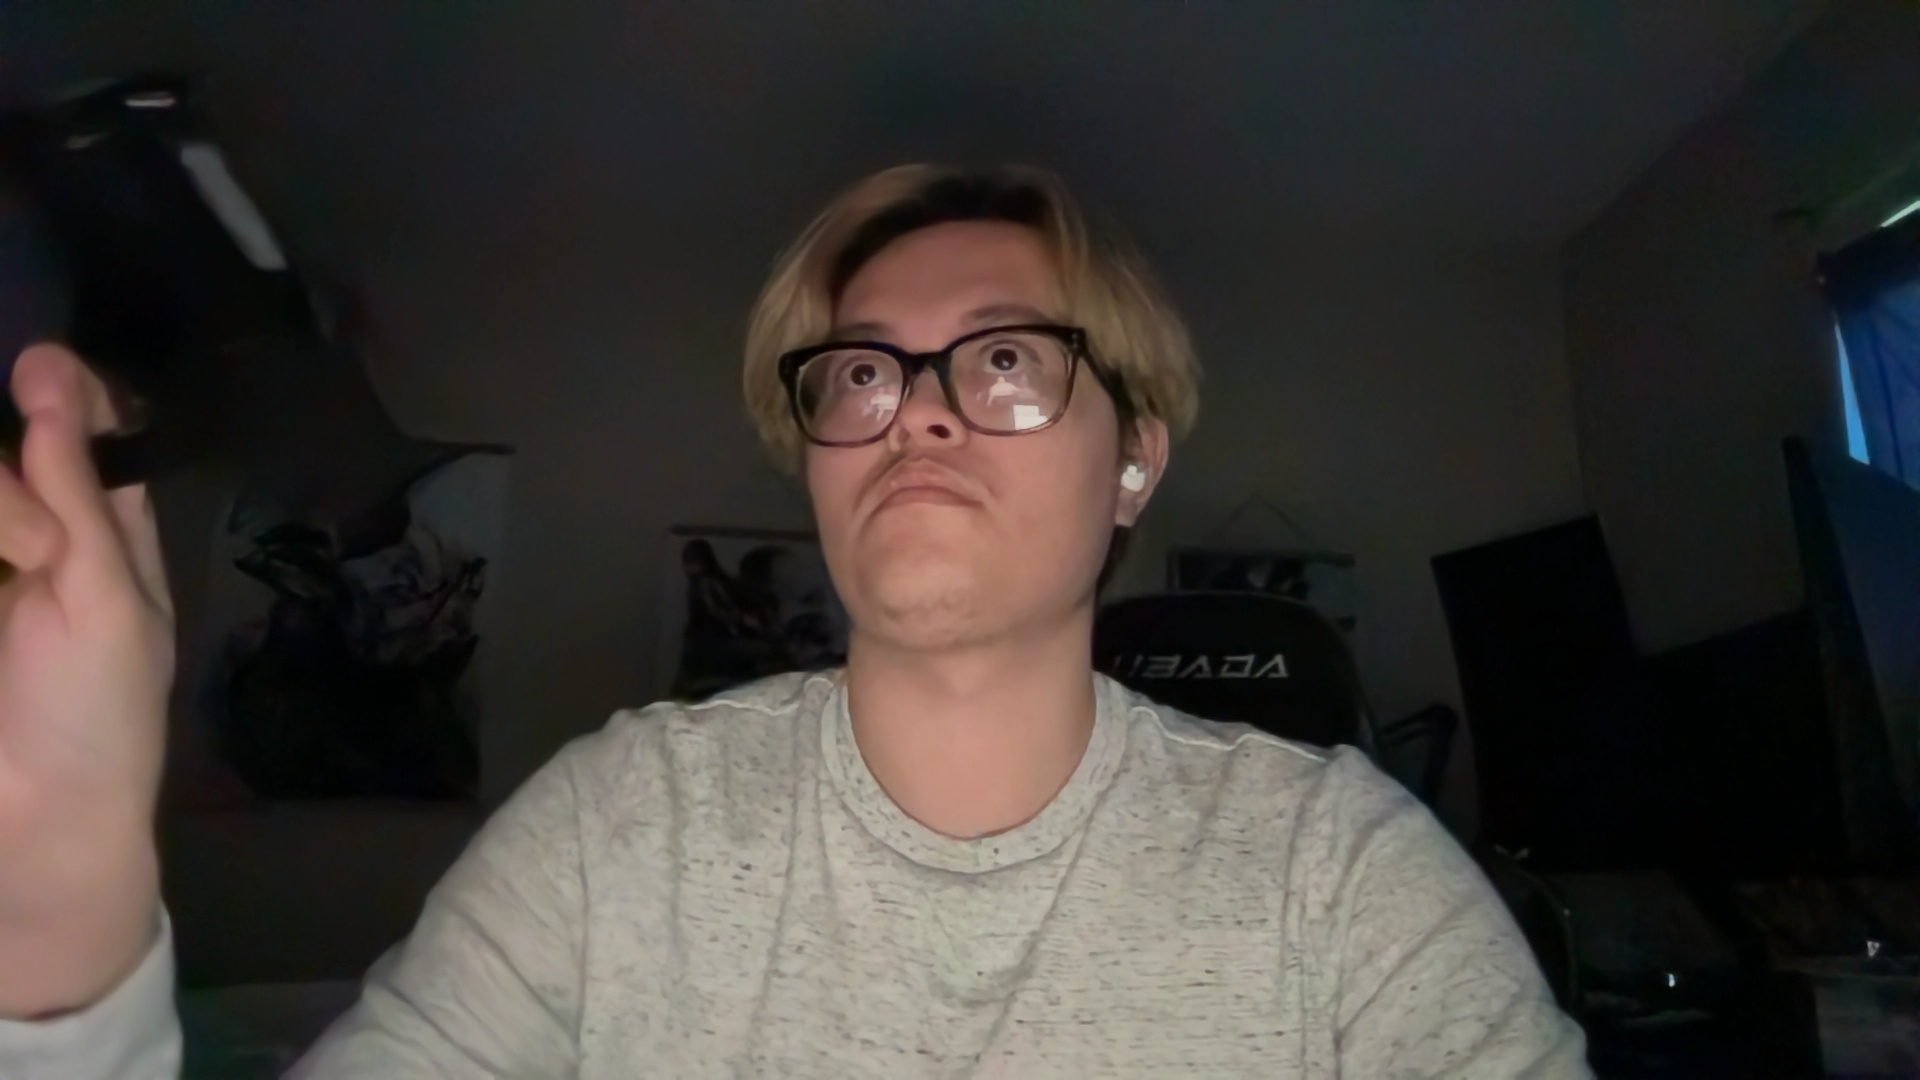microphone: (12, 63, 430, 575)
